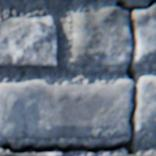brick: (0, 18, 55, 68), (0, 154, 60, 155)
broken_brick: (0, 81, 132, 138), (71, 8, 129, 66), (132, 6, 155, 63), (132, 77, 155, 134)
crack: (0, 0, 155, 155)
